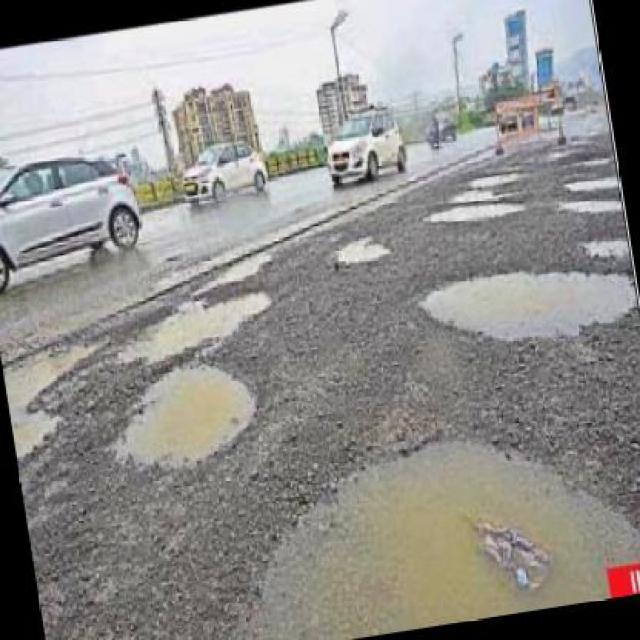pothole: (211, 396, 640, 638), (414, 240, 640, 360), (108, 350, 269, 475), (119, 278, 278, 368), (428, 190, 526, 228), (334, 227, 394, 267), (559, 164, 623, 196), (561, 188, 625, 217), (468, 166, 526, 188)
